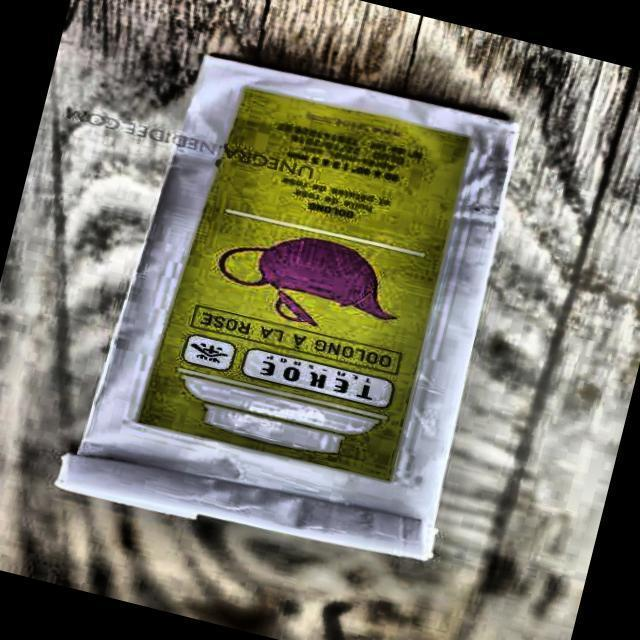cardboard: (53, 34, 539, 582)
